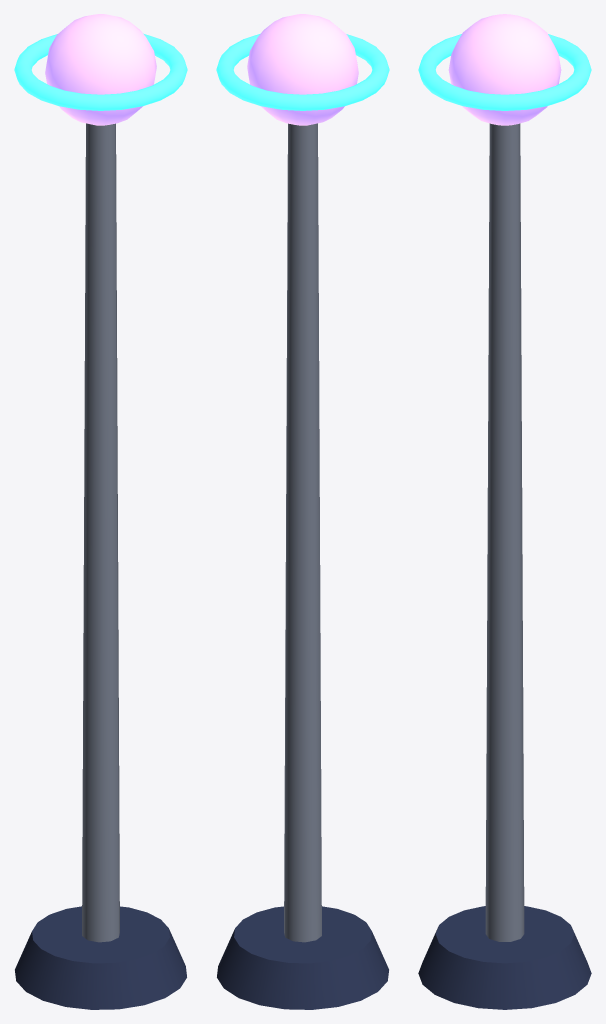
Rendered from space_beacon.glb.
3 views of the same model, side by side, from view 1: azimuth 30°, elevation 25°; view 2: azimuth 150°, elevation 25°; view 3: azimuth 270°, elevation 25° (orthographic).
Bounding box in the file's own units: 0.4 × 2.43 × 0.4.
